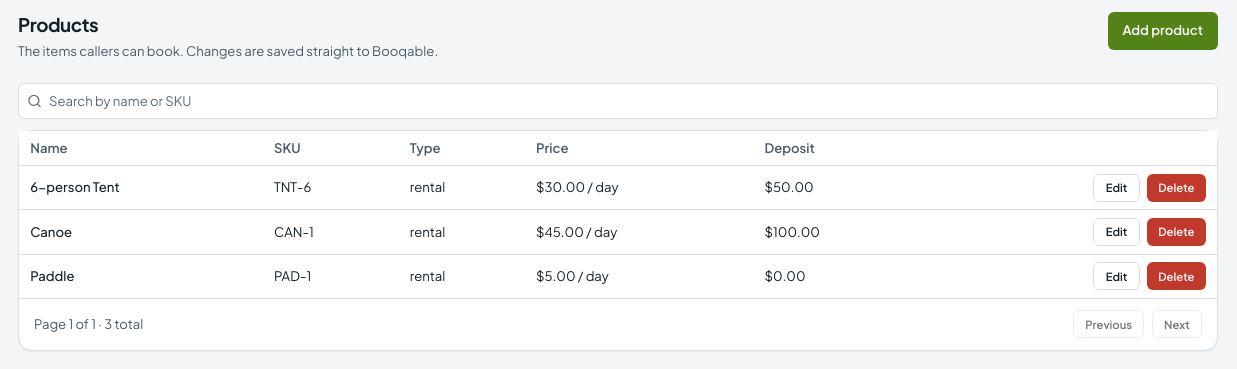
it: ProductsPage › lists products and filters by search
The width and height of the screenshot is (1237, 369).
Expected: the text "Canoe" is shown, [30,222,72,240]
Type "tent" into the field named "Search products".
click(618, 101); type("tent")  # box [18,83,1218,119]
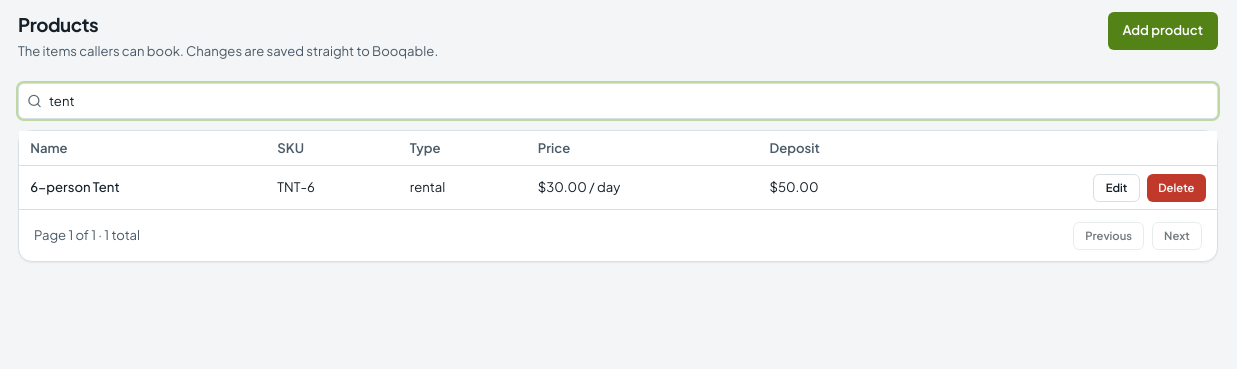
Expected: the text "6-person Tent" is shown, [30,178,120,195]
Now the text "Canoe" is gone
